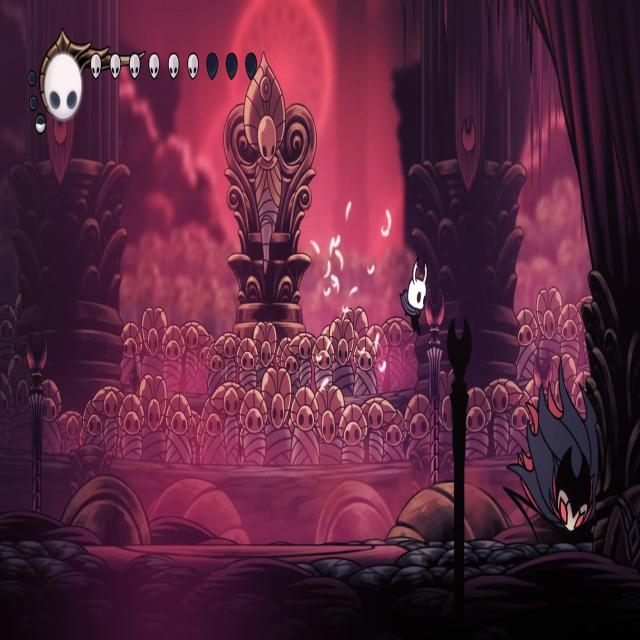Dive Dash: (502, 344, 640, 546)
Player: (399, 255, 431, 338)
